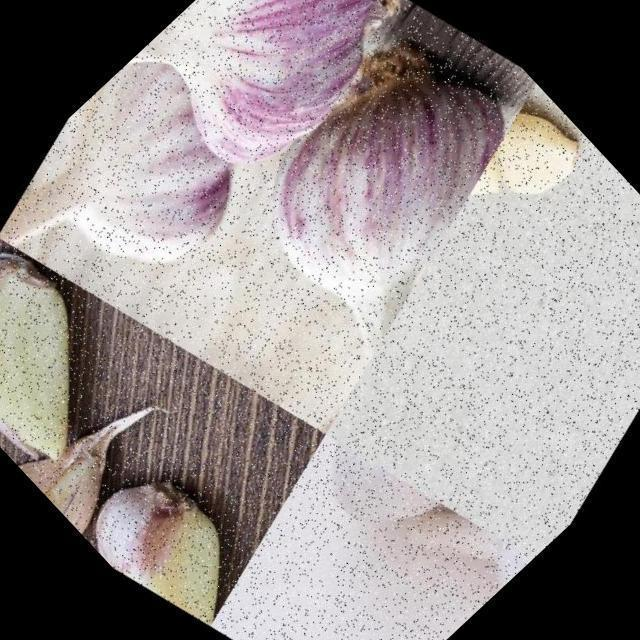garlic: (122, 0, 593, 429), (0, 9, 331, 366), (85, 0, 456, 260), (281, 394, 526, 640), (0, 206, 169, 482), (66, 427, 283, 640), (356, 470, 535, 640), (442, 86, 616, 258), (0, 373, 135, 534)
